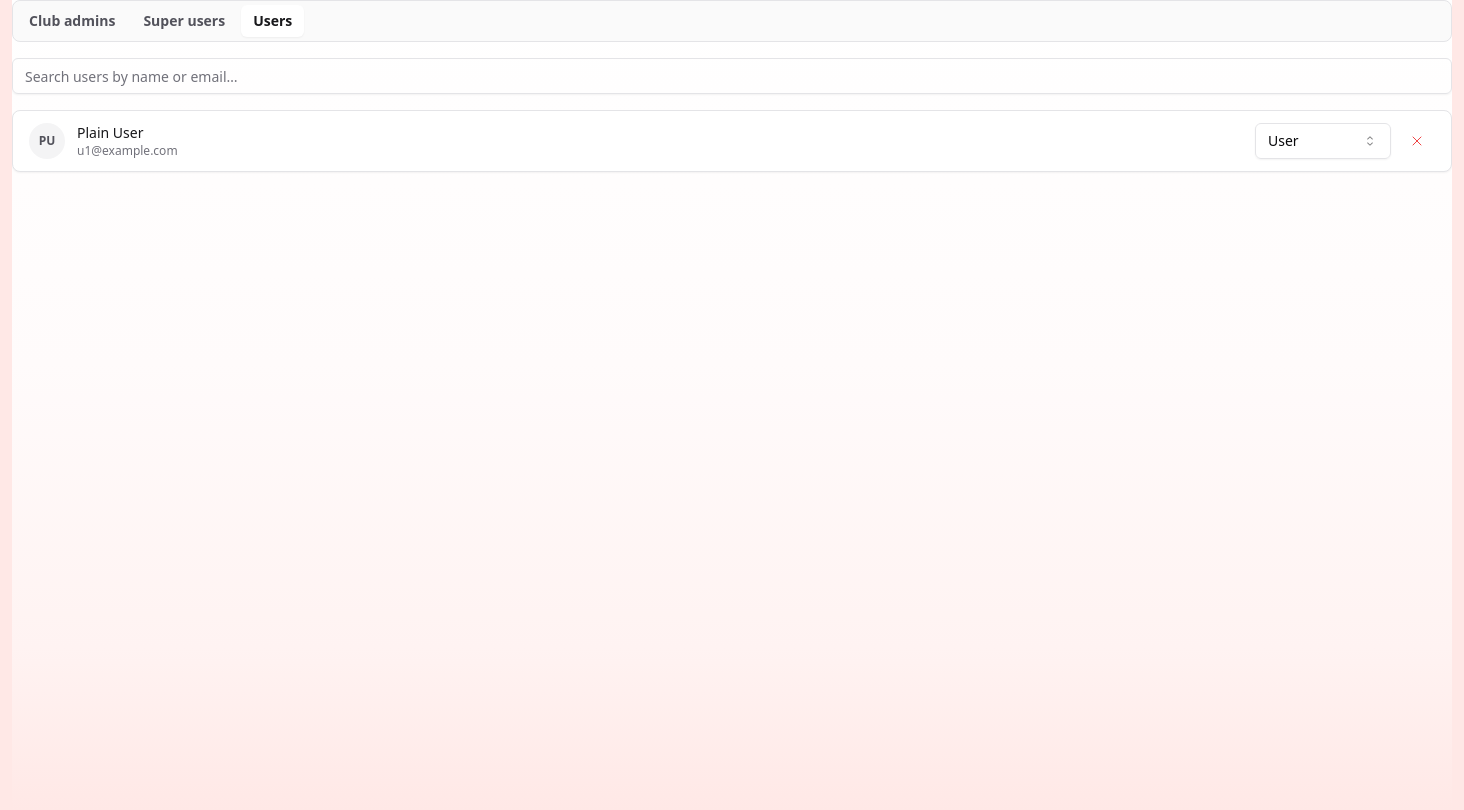
UserRoleManager › shows the role filter for super users and switches lists
Expected: the element named "filter users" is shown, [12,0,1452,42]
Expected: the tab "Club admins" is shown, [17,5,127,37]
Click the tab "Super users" at (184, 21), box [131,5,237,37]
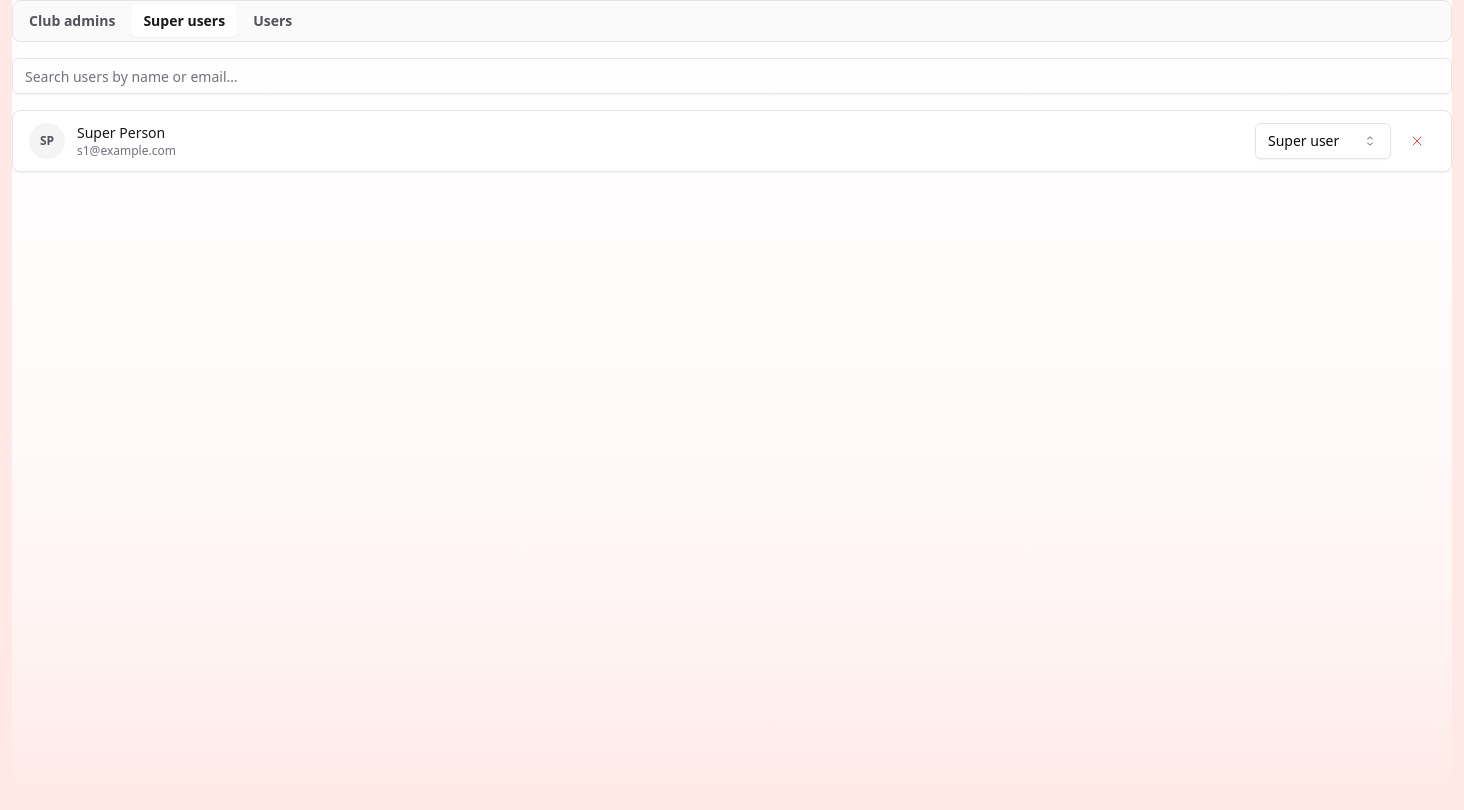
Now the link "Super Person" is shown, box [77,123,165,142]
Now the link "Plain User" is gone
Click the tab "Club admins" at (72, 21), box [17,5,127,37]
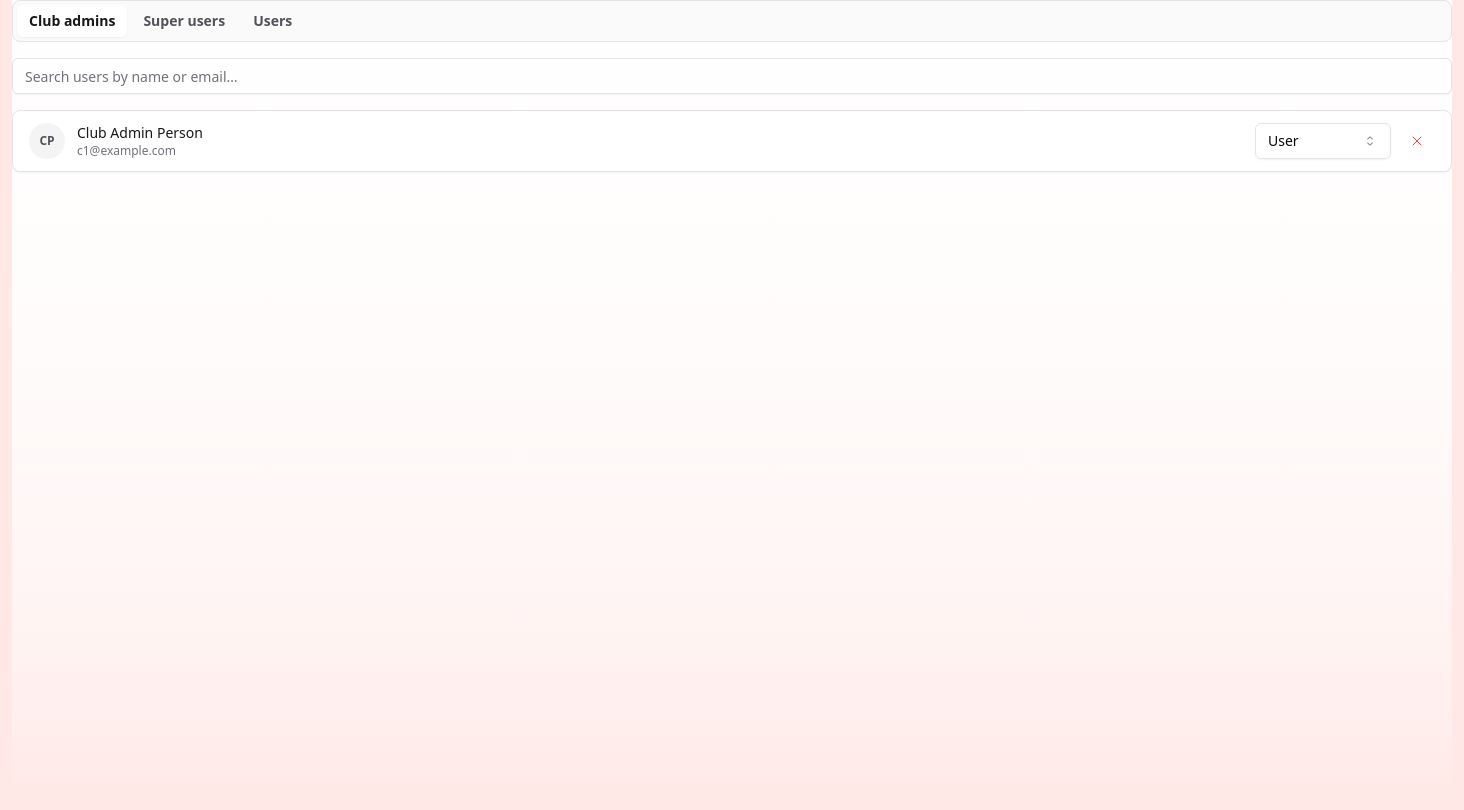
Now the link "Club Admin Person" is shown, box [77,123,203,142]
